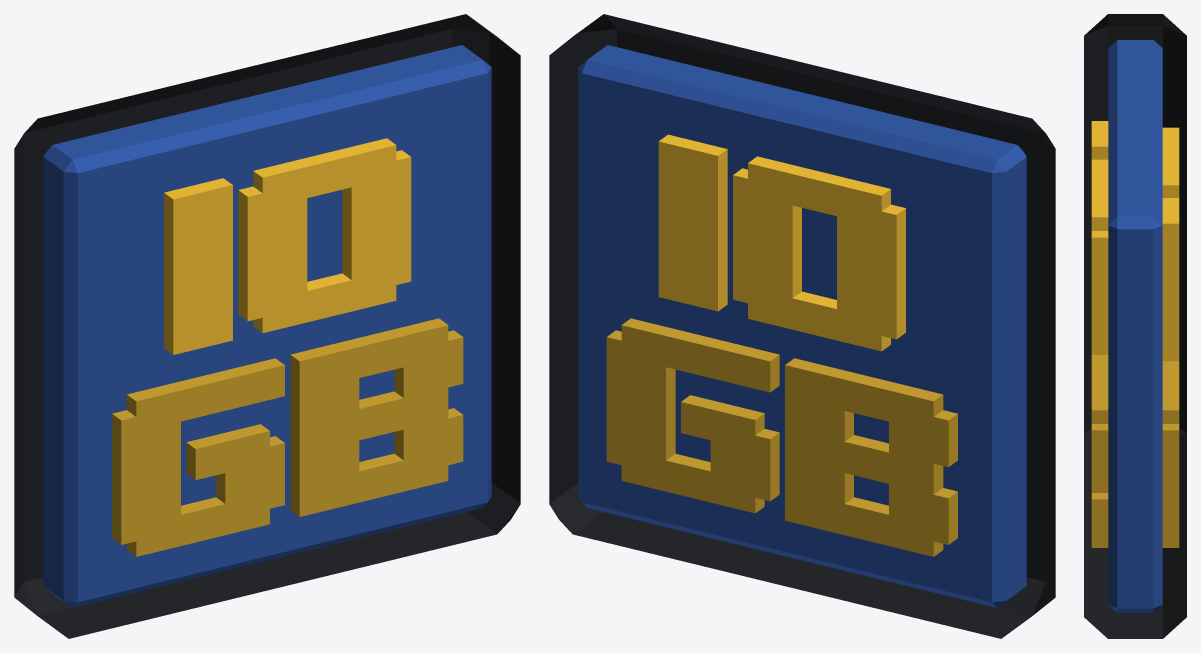
Rendered from target01.fbx.
3 renders of one model, left to right at view 1: azimuth 30°, elevation 25°; view 2: azimuth 150°, elevation 25°; view 3: azimuth 270°, elevation 25°, orthographic. The views are drawn at different scales.
Parts seen in each view (by area): view 1: target01; view 2: target01; view 3: target01.
Part boxes in pixels (bbox=[...]): target01: bbox=[14, 14, 520, 638]; target01: bbox=[549, 14, 1055, 638]; target01: bbox=[1084, 14, 1186, 638].
Size of the model in its own units: 8.88 by 8.88 by 1.88.
